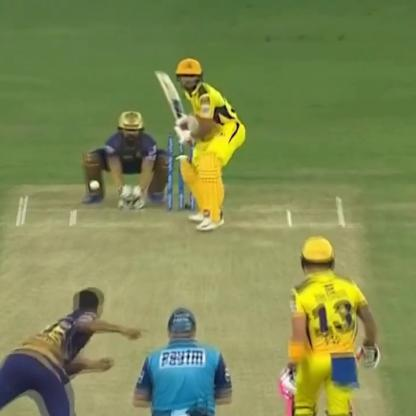ball: (88, 171, 104, 192)
bat: (150, 64, 193, 136), (278, 362, 301, 414)
pitch: (0, 187, 368, 416)
